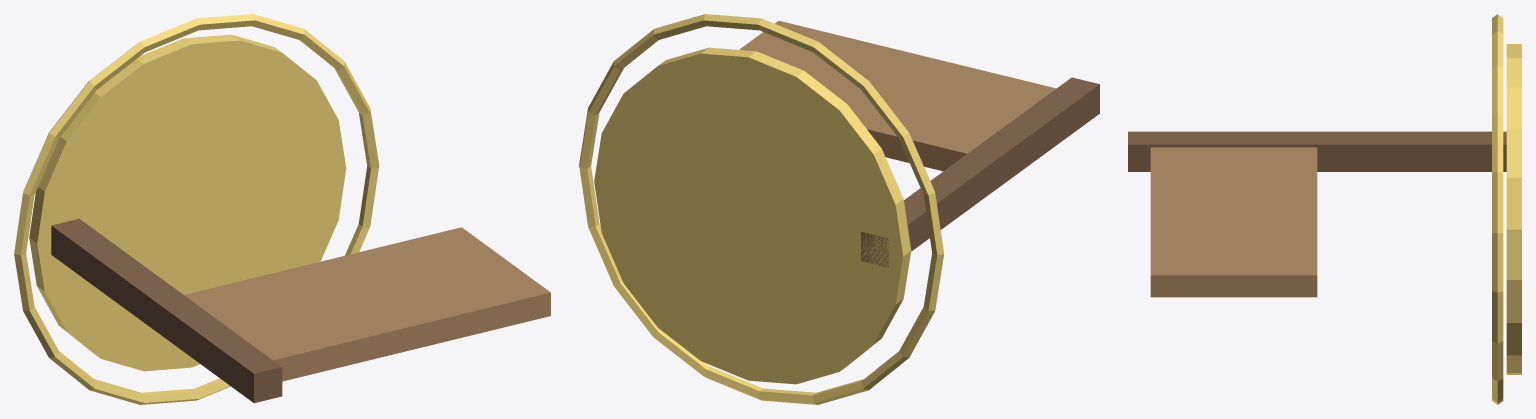
File: 12_mission_board.glb
The picture shows the model from 3 angles, left to right: view 1: azimuth 30°, elevation 25°; view 2: azimuth 150°, elevation 25°; view 3: azimuth 270°, elevation 25°; orthographic projection. The views are drawn at different scales.
Visible parts, largest first — view 1: base_disc, panel, post, base_ring; view 2: base_disc, panel, base_ring, post; view 3: panel, post, base_disc, base_ring.
Boxes of the visible parts, x1,y1,x2,y2 form: base_disc: (29,34,346,371); panel: (184,227,550,381); post: (51,218,282,403); base_ring: (14,14,379,404); base_disc: (594,47,911,384); panel: (739,21,1056,171); base_ring: (579,14,943,404); post: (861,77,1099,267); panel: (1150,147,1317,297); post: (1128,131,1506,171); base_disc: (1506,44,1521,374); base_ring: (1492,14,1503,404).
Bounding box in the file's own units: 1.3 × 1.3 × 1.3.
